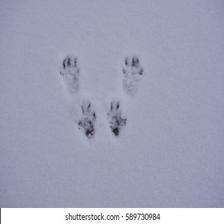squirrel: (104, 98, 133, 141), (58, 55, 83, 98), (74, 101, 98, 138)
